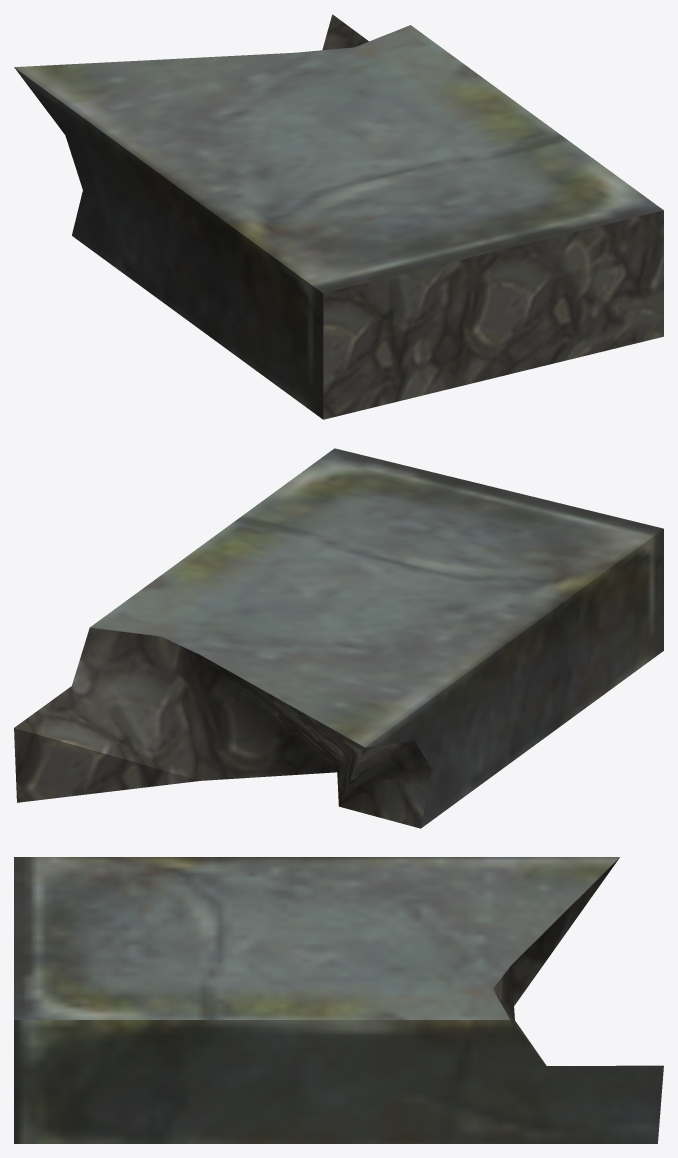
File: F_fushou013.fbx
3 renders of one model, top to bottom at view 1: azimuth 30°, elevation 25°; view 2: azimuth 150°, elevation 25°; view 3: azimuth 270°, elevation 25°, orthographic. The views are drawn at different scales.
Visible parts, largest first — view 1: F_fushou013; view 2: F_fushou013; view 3: F_fushou013.
Part boxes in pixels (x1,y1,x2,y2): F_fushou013: (14,14,663,419); F_fushou013: (14,448,663,828); F_fushou013: (14,857,663,1143).
Size of the model in its own units: 29.75 by 10.54 by 50.16.
